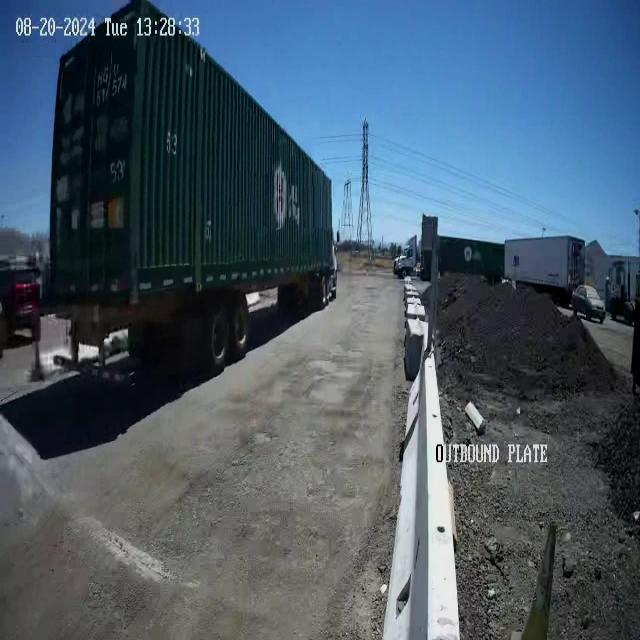TRUCK_CONTAINER: (45, 1, 338, 376)
